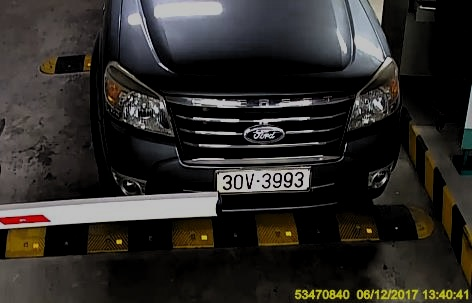plate: (214, 164, 316, 194)
